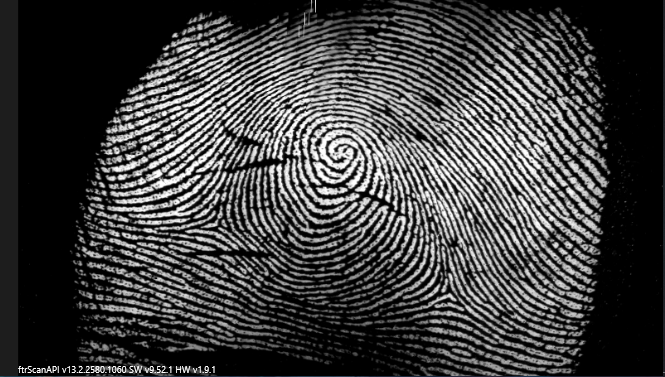nucelo: (317, 125, 364, 168)
verticilo: (199, 204, 231, 234), (433, 278, 461, 306)
